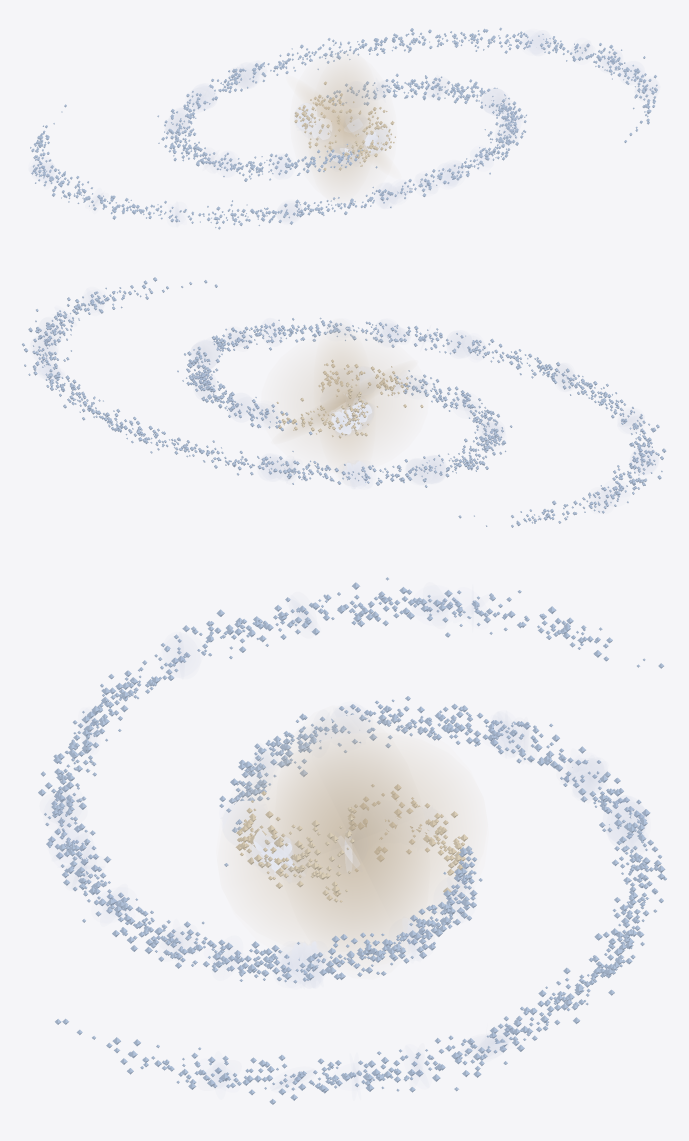
3 renders of one model, top to bottom at view 1: azimuth 30°, elevation 25°; view 2: azimuth 150°, elevation 25°; view 3: azimuth 270°, elevation 25°, orthographic. The views are drawn at different scales.
Size of the model in its own units: 7.29 by 1.78 by 3.94.
